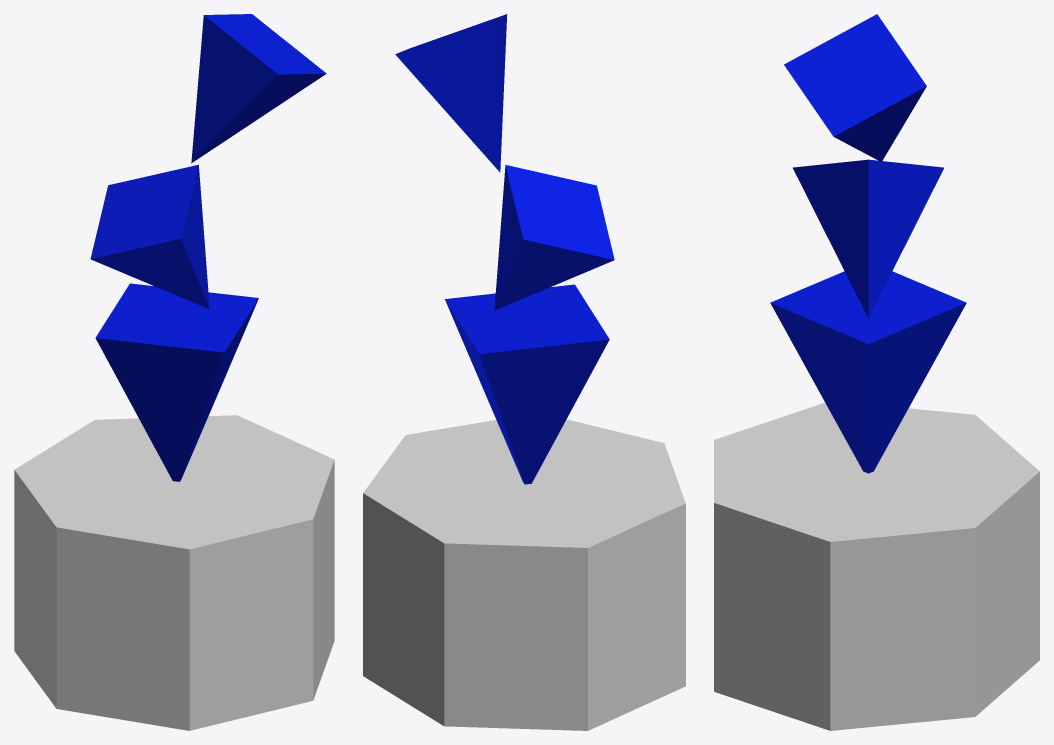
The model's file is Triangulos.fbx.
The picture shows the model from 3 angles, left to right: view 1: azimuth 30°, elevation 25°; view 2: azimuth 150°, elevation 25°; view 3: azimuth 270°, elevation 25°; orthographic projection. The views are drawn at different scales.
Parts seen in each view (by area): view 1: Cylinder, Cone.001, Cone.002, Cone.003; view 2: Cylinder, Cone.001, Cone.002, Cone.003; view 3: Cylinder, Cone.001, Cone.002, Cone.003.
Part boxes in pixels (x1,y1,x2,y2): Cylinder: [14, 415, 334, 730]; Cone.001: [95, 283, 258, 481]; Cone.002: [90, 164, 209, 309]; Cone.003: [191, 14, 326, 163]; Cylinder: [363, 419, 685, 730]; Cone.001: [445, 284, 609, 484]; Cone.002: [494, 165, 614, 310]; Cone.003: [395, 14, 507, 172]; Cylinder: [714, 402, 1039, 730]; Cone.001: [770, 271, 966, 473]; Cone.002: [793, 159, 943, 318]; Cone.003: [784, 14, 926, 161].
Bounding box in the file's own units: 31.15 × 68.09 × 30.37.
